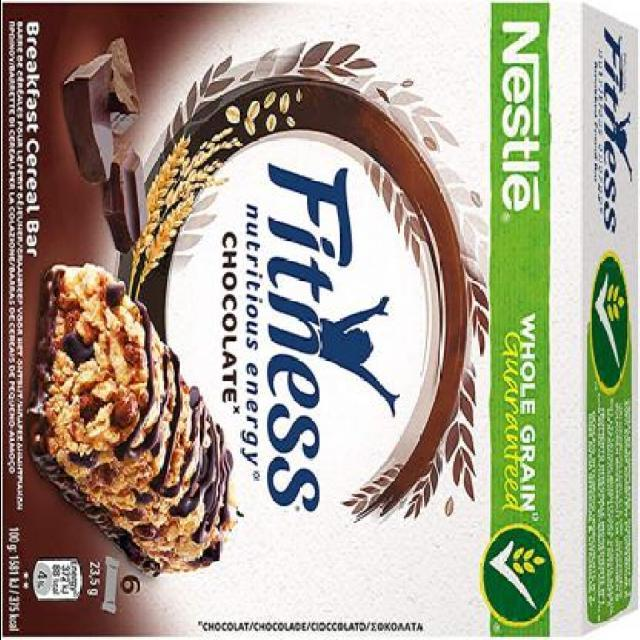Cereal bar: (1, 1, 614, 639)
